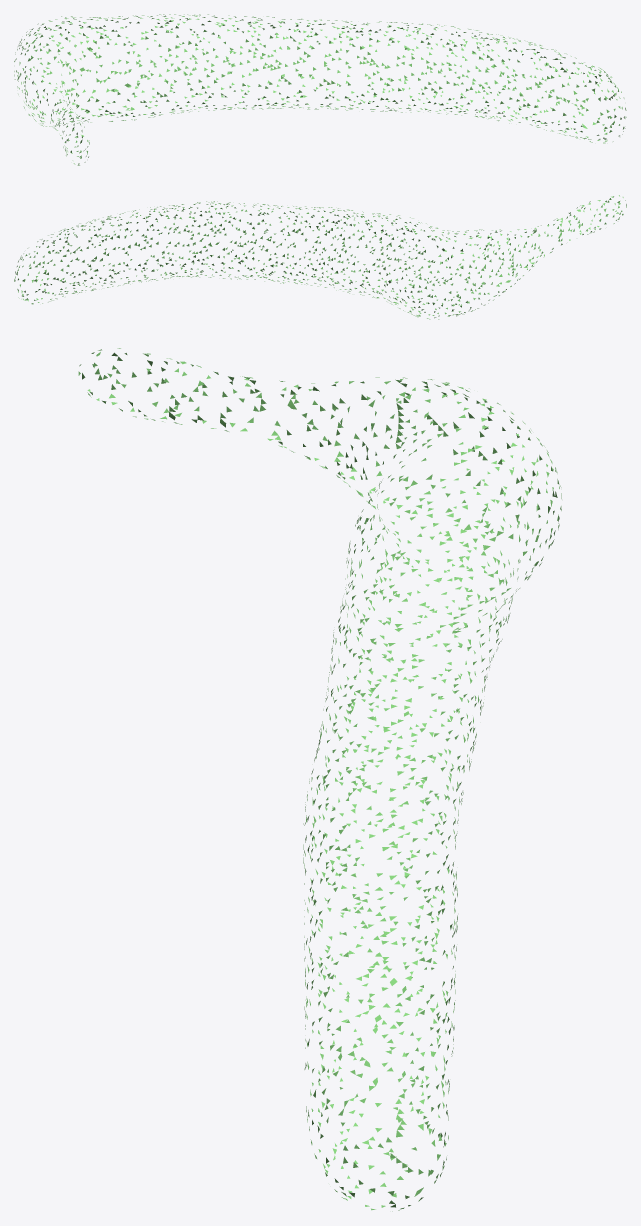
File: morph_016.glb
3 renders of one model, top to bottom at view 1: azimuth 30°, elevation 25°; view 2: azimuth 150°, elevation 25°; view 3: azimuth 270°, elevation 25°, orthographic. The views are drawn at different scales.
Bounding box in the file's own units: 129 × 43.89 × 50.67.
